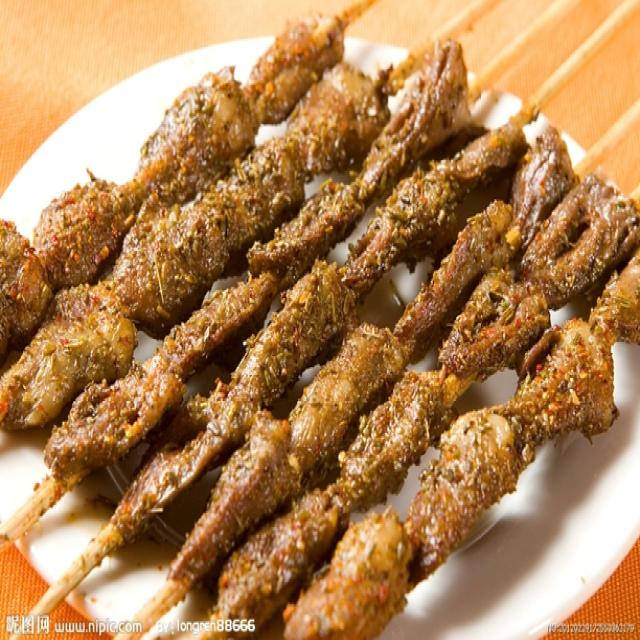烧串烤肉: (9, 8, 630, 626)
